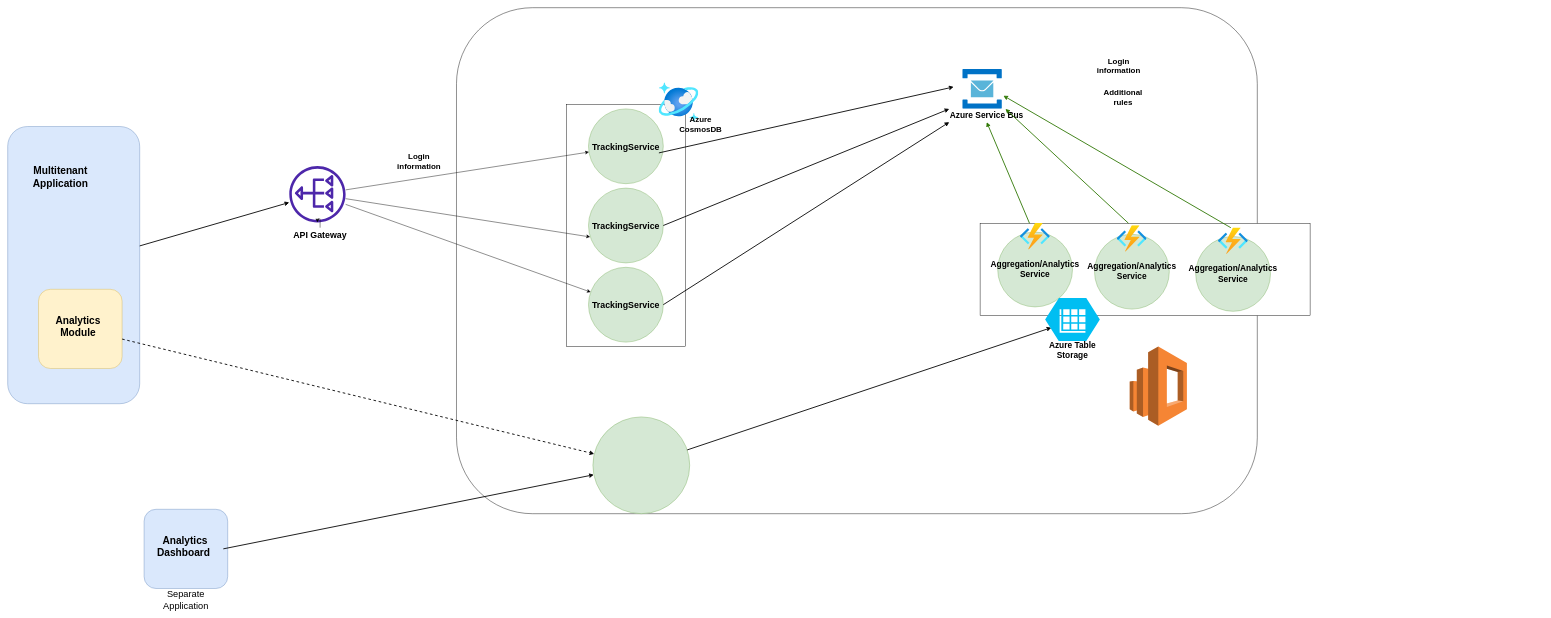
This 1551x618 diagram has some shape labels left out. Each missing label, with the centre of its shape:
"DashboardAPI Service" belongs at pixel 641 465.
"Elastic Search" belongs at pixel 1158 386.
